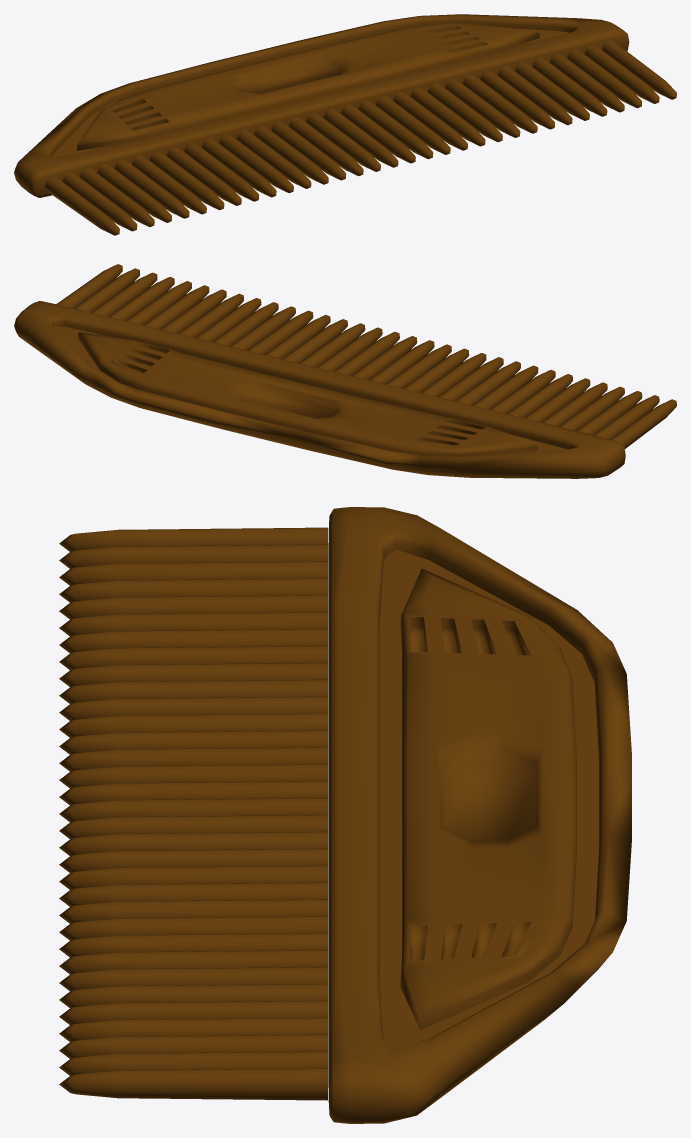
File: comb.fbx
3 renders of one model, top to bottom at view 1: azimuth 30°, elevation 25°; view 2: azimuth 150°, elevation 25°; view 3: azimuth 270°, elevation 25°, orthographic. The views are drawn at different scales.
Parts seen in each view (by area): view 1: Cube; view 2: Cube; view 3: Cube.
Part boxes in pixels (<box>): Cube: <box>14,14,676,235</box>; Cube: <box>14,264,676,478</box>; Cube: <box>59,507,631,1123</box>.
Size of the model in its own units: 210 by 8.9 by 87.62.
